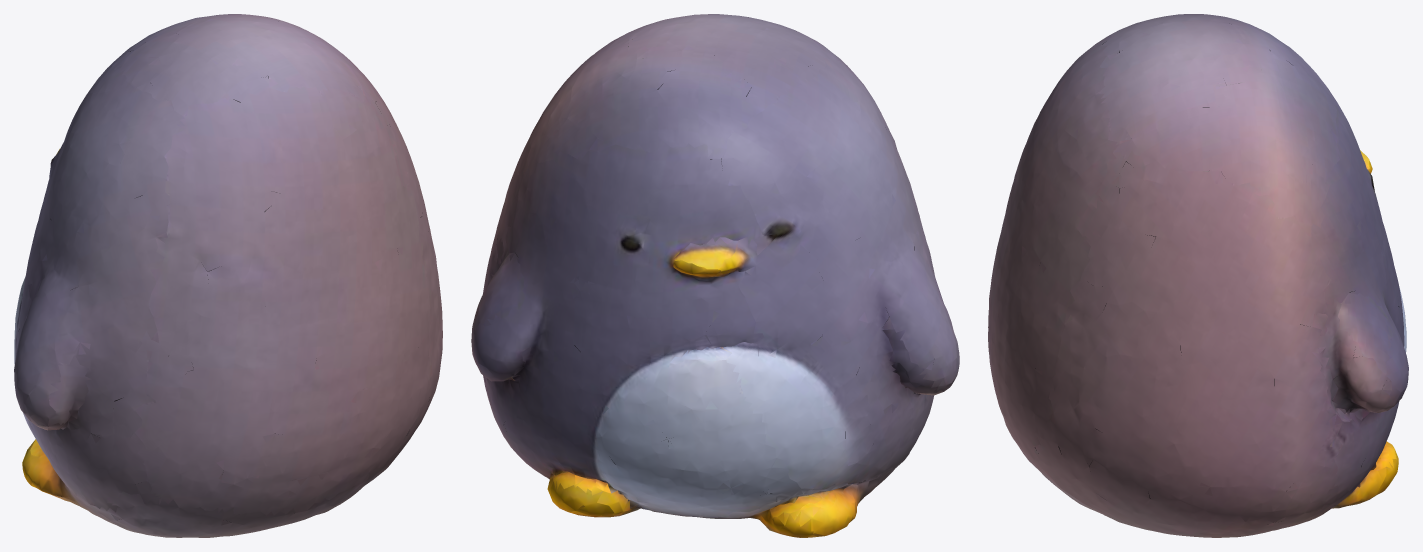
The model's file is kawaiipenguin.glb.
3 views of the same model, side by side, from view 1: azimuth 30°, elevation 25°; view 2: azimuth 150°, elevation 25°; view 3: azimuth 270°, elevation 25° (orthographic).
Parts seen in each view (by area): view 1: world; view 2: world; view 3: world.
Part boxes in pixels (box(x1,y1,x2,y2)): world: box(14, 14, 442, 537); world: box(471, 14, 959, 537); world: box(988, 14, 1408, 537).
Bounding box in the file's own units: 0.8753 × 0.9055 × 0.7556.
Materials: 1 (1 with a texture image).
